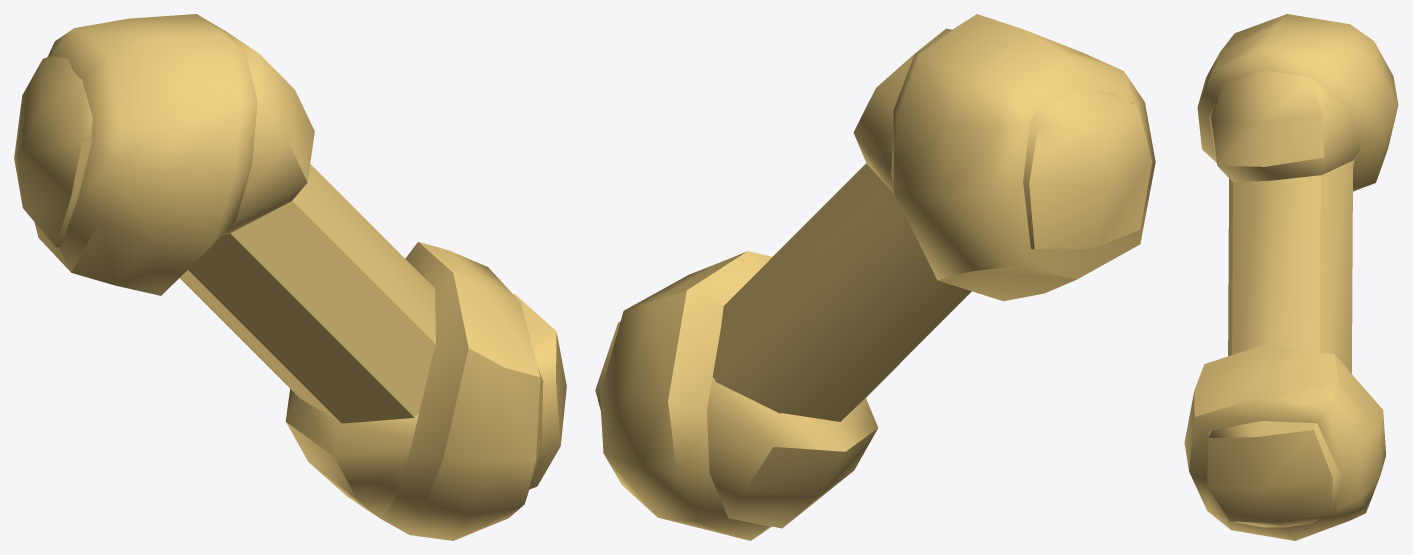
3 renders of one model, left to right at view 1: azimuth 30°, elevation 25°; view 2: azimuth 150°, elevation 25°; view 3: azimuth 270°, elevation 25°, orthographic. The views are drawn at different scales.
Parts seen in each view (by area): view 1: model_0.055; view 2: model_0.055; view 3: model_0.055.
Part boxes in pixels (left/top/right/bottom): model_0.055: left=14, top=14, right=566, bottom=540; model_0.055: left=595, top=14, right=1155, bottom=540; model_0.055: left=1184, top=14, right=1398, bottom=540.
Size of the model in its own units: 3.37 by 3.49 by 1.66.
